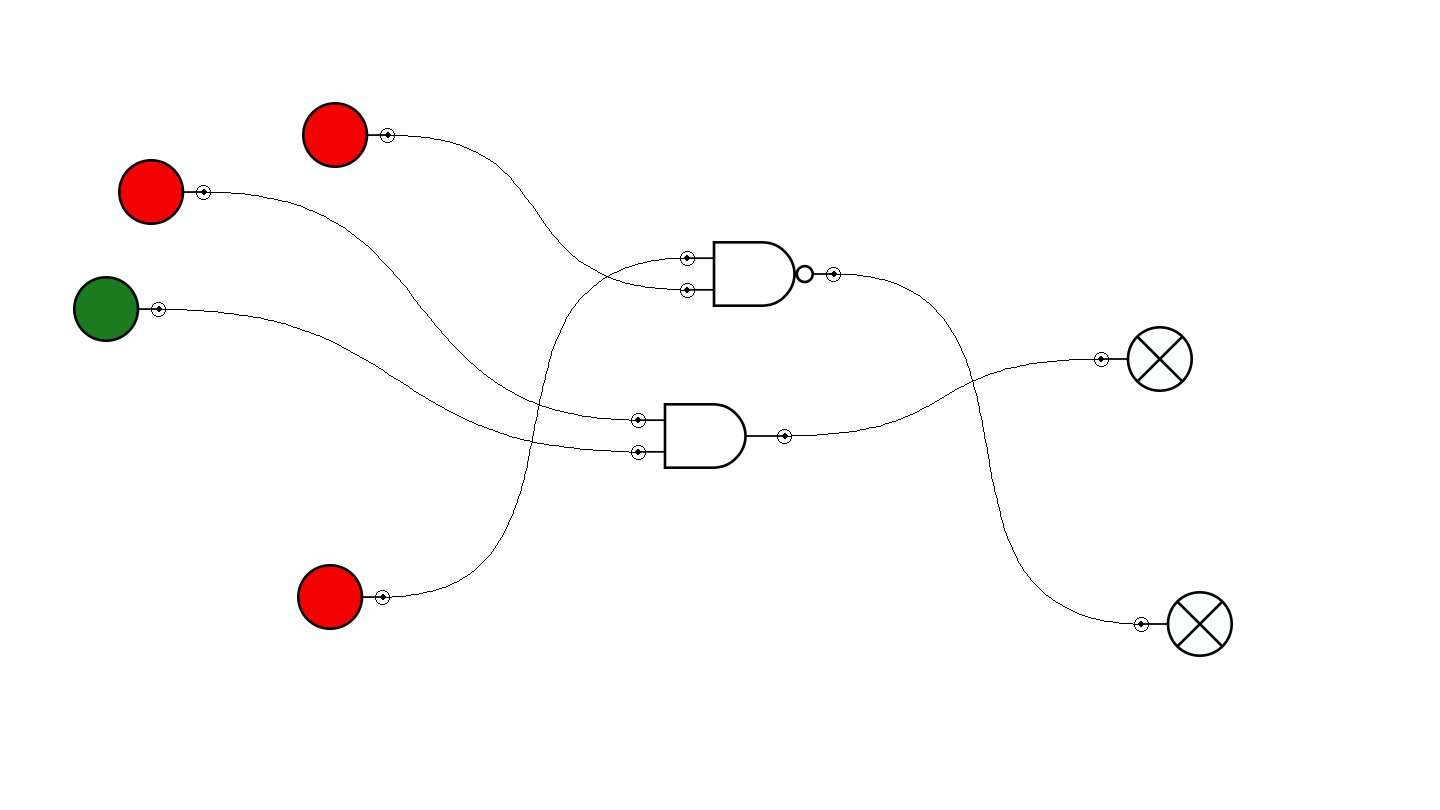and: (631, 403, 792, 469)
bulb: (1094, 326, 1193, 392), (1134, 591, 1233, 657)
nand: (680, 241, 841, 307)
switch_False: (302, 102, 395, 168), (297, 564, 390, 630), (118, 159, 211, 225)
switch_True: (73, 276, 166, 342)
